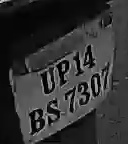0: (91, 71, 101, 99)
1: (70, 51, 84, 76)
3: (77, 80, 91, 107)
4: (83, 45, 98, 71)
7: (63, 88, 77, 115), (102, 62, 110, 90)
B: (25, 107, 46, 136)
P: (56, 58, 70, 86)
S: (45, 98, 61, 125)
U: (36, 69, 56, 95)
